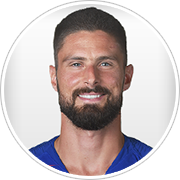face: (47, 38, 136, 119)
